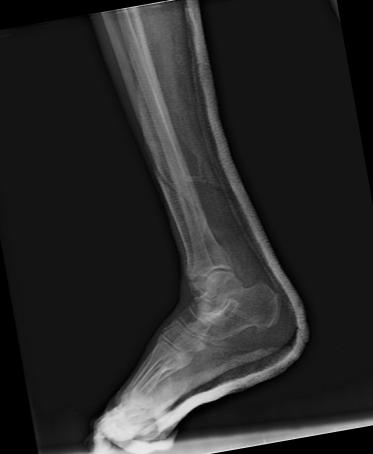fractured: (151, 161, 208, 228)
